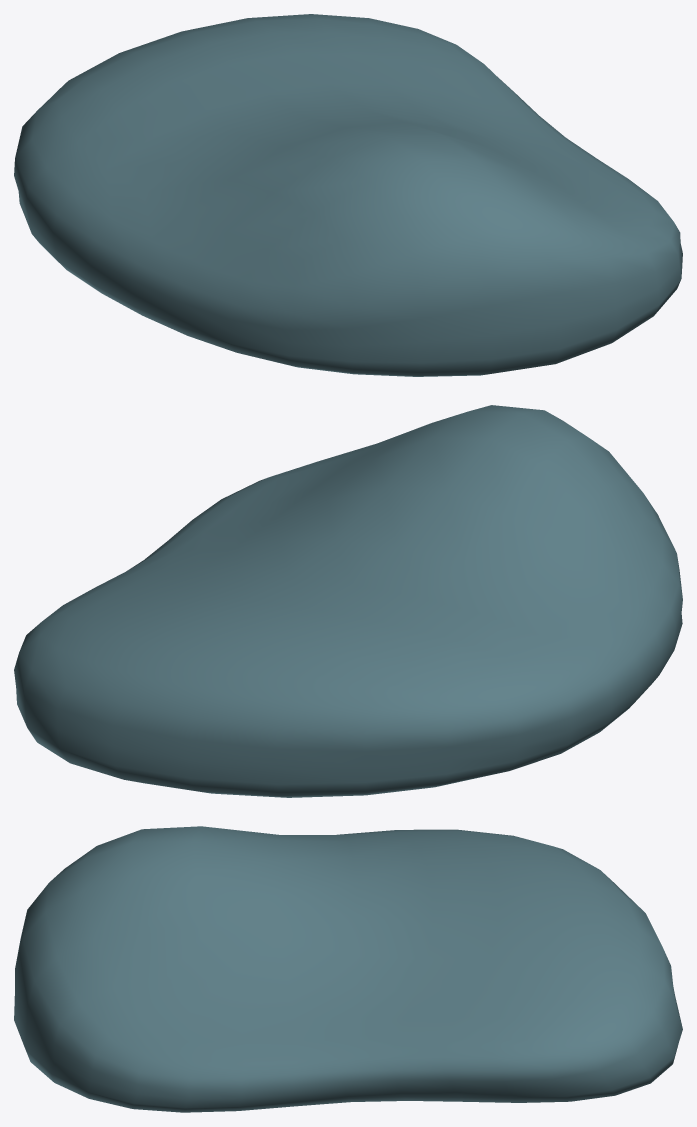
Rendered from Rock_B_06.fbx.
3 views of the same model, one above another, from view 1: azimuth 30°, elevation 25°; view 2: azimuth 150°, elevation 25°; view 3: azimuth 270°, elevation 25° (orthographic). The views are drawn at different scales.
Parts seen in each view (by area): view 1: Rock_B_06_LOD0; view 2: Rock_B_06_LOD0; view 3: Rock_B_06_LOD0.
Boxes of the visible parts, x1=… form: Rock_B_06_LOD0: x1=14, y1=14, x2=682, y2=376; Rock_B_06_LOD0: x1=14, y1=405, x2=682, y2=797; Rock_B_06_LOD0: x1=14, y1=826, x2=682, y2=1112.
Size of what is drawn, in the model's own units: 453 by 164 by 569.
